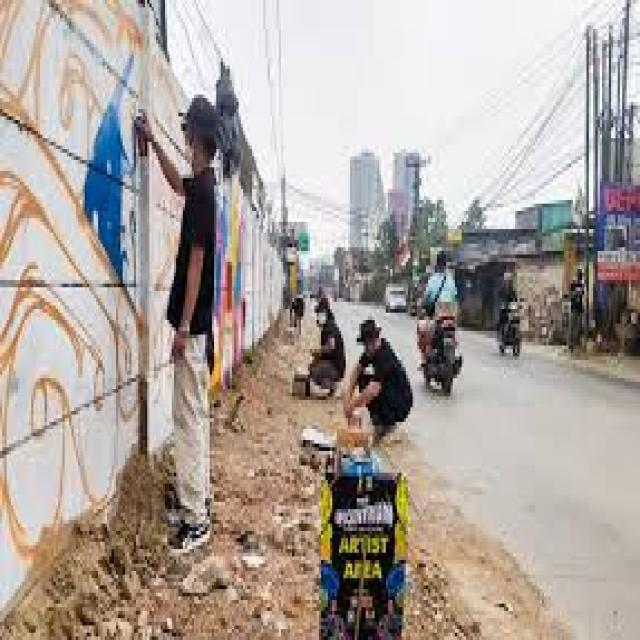-: (1, 0, 140, 555), (217, 171, 251, 397)
